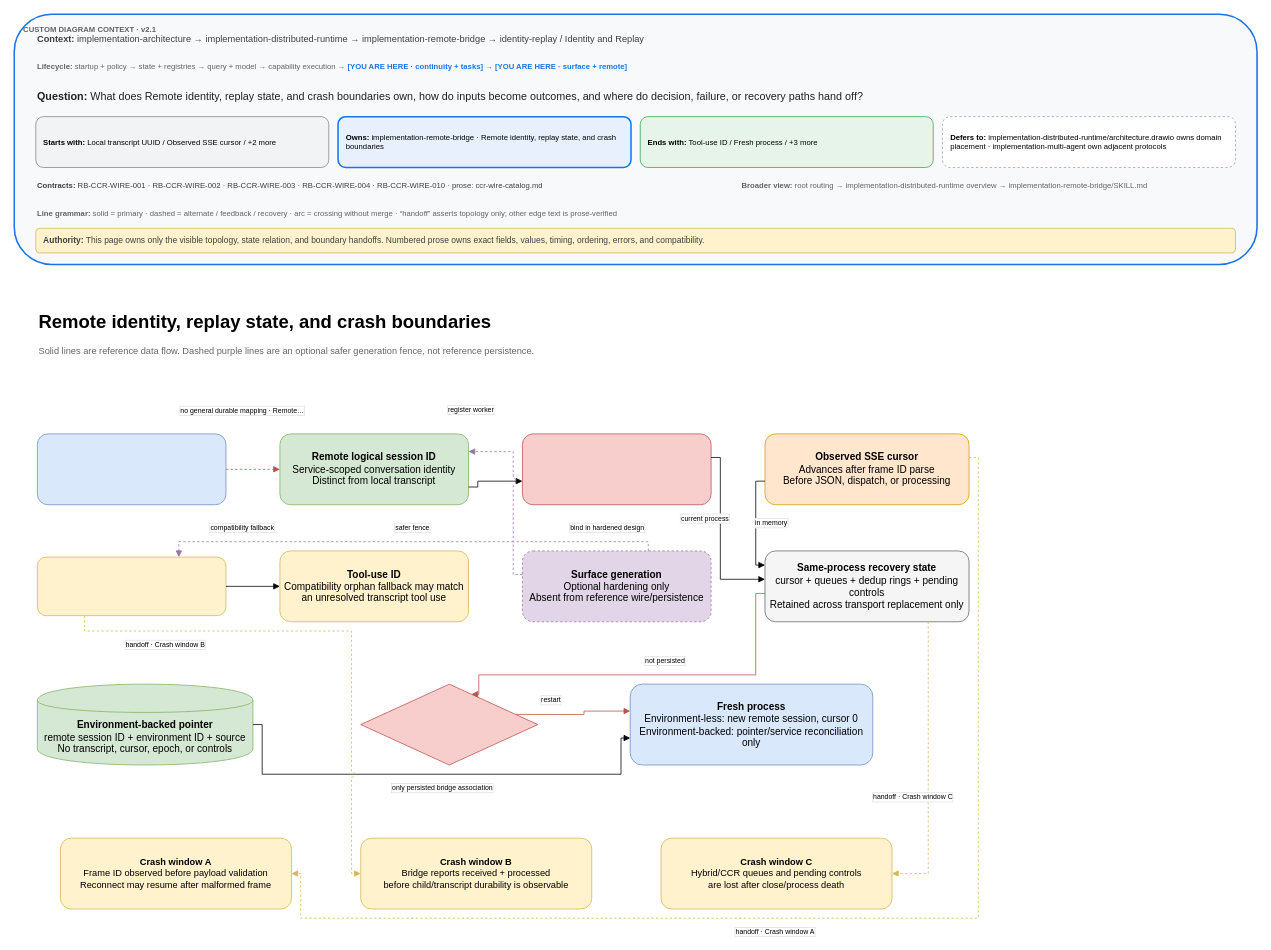
This 1271x950 diagram has some shape labels left out. The centre of each missing label's shape, as x and y in pixels:
Control request ID Exact process-local pending key: point 131,586
Local transcript UUID One local message graph URL resume may allocate a new UUID: point 131,469
PROCESS CRASH / FINAL CLOSE Memory-only state disappears: point 449,724
Worker epoch Issued by each worker registration Fences every older writer: point 616,469
